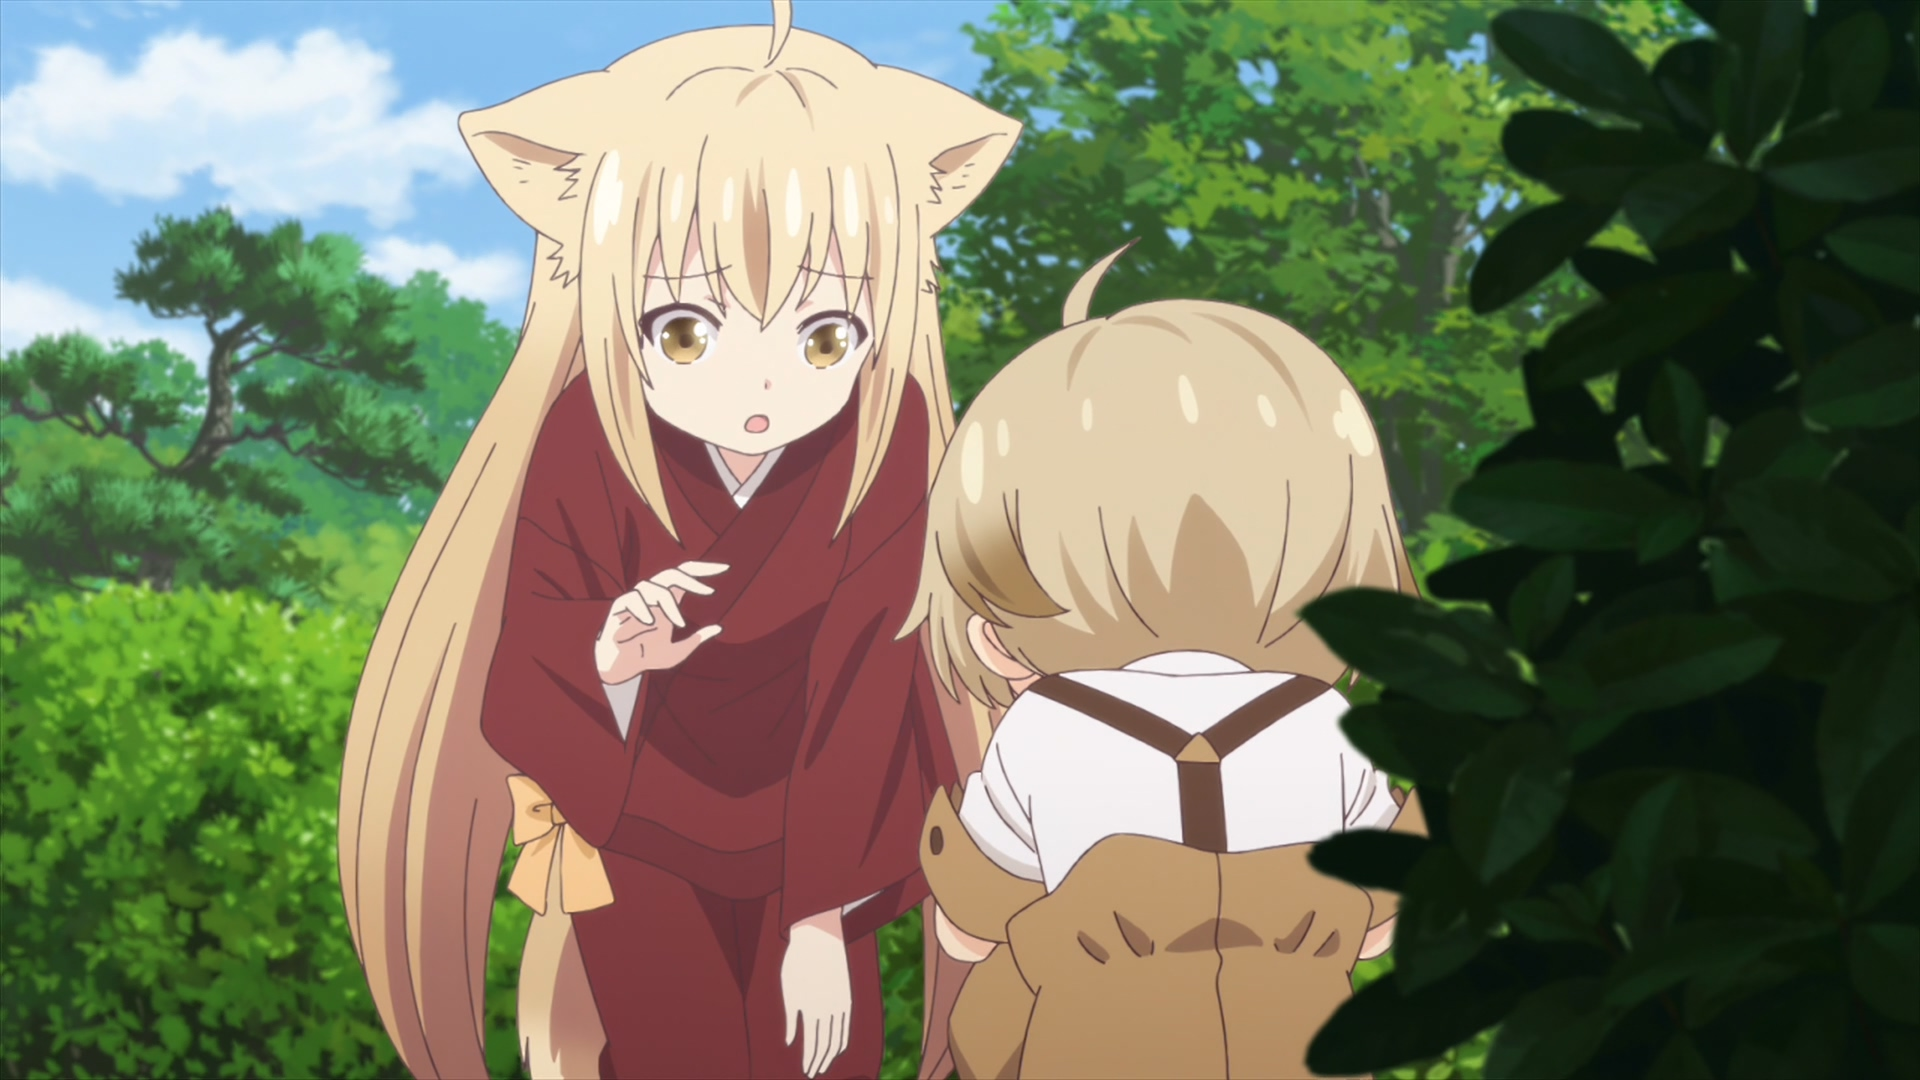其他: (893, 237, 1428, 1080)
柚: (338, 1, 1023, 1080)
